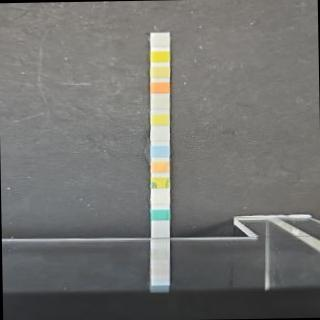mark: (150, 160, 168, 173), (150, 128, 168, 141), (151, 112, 168, 125), (151, 95, 168, 108), (151, 208, 169, 220), (150, 176, 168, 188), (150, 144, 168, 156), (150, 80, 168, 92), (150, 66, 168, 78), (150, 50, 168, 62), (151, 34, 168, 46), (150, 193, 168, 203)
